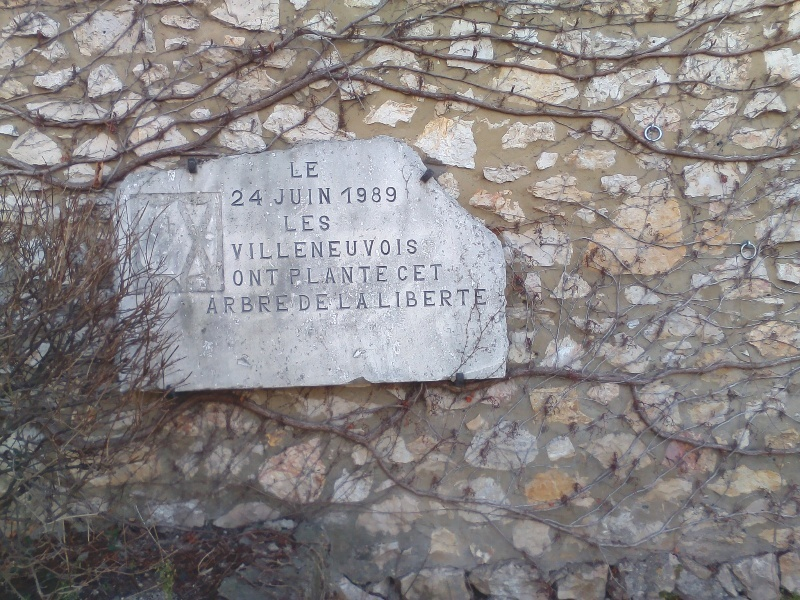text: (241, 238, 256, 261), (257, 238, 272, 261), (273, 238, 288, 261), (289, 238, 304, 261), (305, 238, 320, 261), (321, 238, 336, 261), (337, 238, 352, 261), (353, 238, 368, 261), (369, 238, 384, 261), (385, 238, 400, 261), (401, 238, 416, 261), (209, 294, 224, 316), (225, 294, 240, 316), (241, 294, 256, 316), (257, 294, 272, 316), (273, 294, 288, 316), (385, 288, 400, 310), (401, 288, 416, 310), (417, 288, 432, 310), (433, 288, 448, 310), (449, 288, 464, 310), (465, 288, 480, 310), (289, 265, 304, 286), (305, 265, 320, 286), (321, 265, 336, 286), (337, 265, 352, 286), (353, 265, 368, 286), (369, 265, 384, 286), (241, 268, 256, 288), (257, 268, 272, 288), (273, 187, 288, 206), (289, 187, 304, 206), (305, 187, 320, 206), (353, 186, 368, 205), (369, 186, 384, 205), (305, 293, 320, 312), (353, 293, 369, 310), (305, 161, 320, 179), (289, 215, 304, 233), (305, 215, 320, 233), (241, 190, 256, 208), (401, 264, 416, 282), (417, 264, 432, 282), (290, 161, 304, 179), (338, 293, 352, 310), (385, 186, 397, 205), (321, 187, 332, 206), (341, 186, 352, 205), (231, 238, 240, 261), (321, 215, 331, 233), (433, 264, 443, 282), (231, 190, 240, 208), (232, 268, 240, 288), (377, 288, 384, 310), (481, 288, 488, 310), (321, 293, 329, 312), (273, 268, 280, 288), (257, 190, 264, 208), (299, 293, 304, 312), (283, 215, 288, 233), (385, 265, 389, 286), (397, 264, 400, 282), (417, 238, 418, 261), (289, 294, 290, 316)
